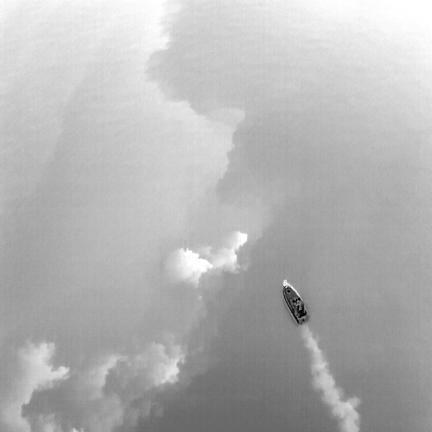flukeprints: (173, 249, 212, 284), (212, 243, 240, 271), (227, 231, 247, 251)
